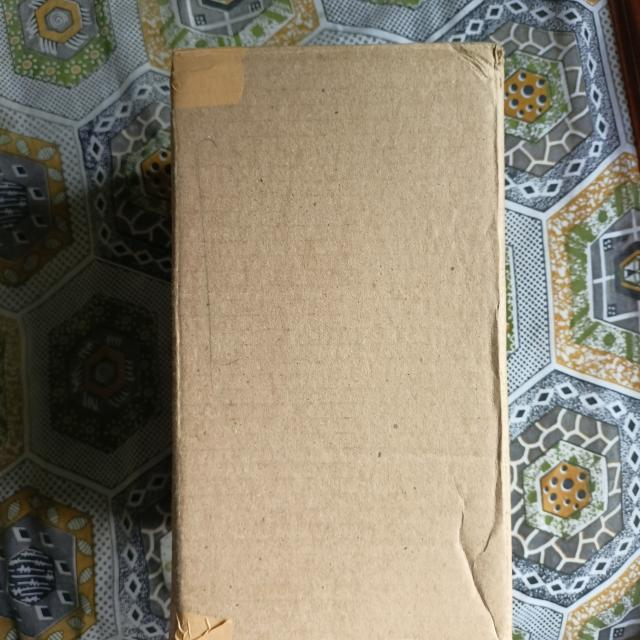box: (174, 44, 517, 640)
